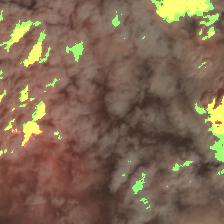landslides: (187, 51, 204, 64), (112, 6, 123, 23), (147, 36, 156, 49)
